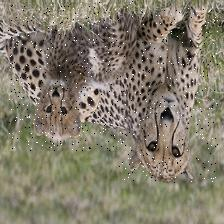Cheetha: (8, 0, 134, 150), (119, 8, 218, 183)
